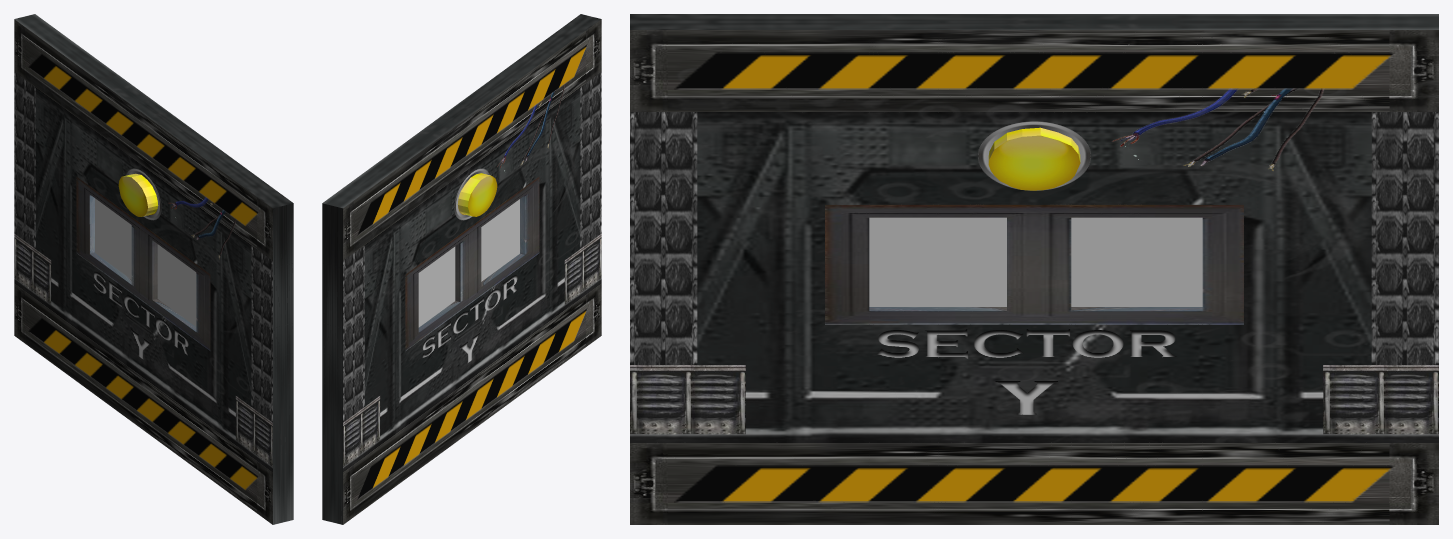
Rendered from door_yellow.glb.
3 renders of one model, left to right at view 1: azimuth 30°, elevation 25°; view 2: azimuth 150°, elevation 25°; view 3: azimuth 270°, elevation 25°, orthographic. The views are drawn at different scales.
Parts seen in each view (by area): view 1: Cube.001; view 2: Cube.001; view 3: Cube.001.
Boxes of the visible parts, left/top/right/bottom form: Cube.001: left=14, top=14, right=293, bottom=524; Cube.001: left=322, top=14, right=601, bottom=524; Cube.001: left=630, top=14, right=1438, bottom=524.
Size of the model in its own units: 0.919 by 6.72 by 9.95.
Materials: 2 (1 with a texture image).
